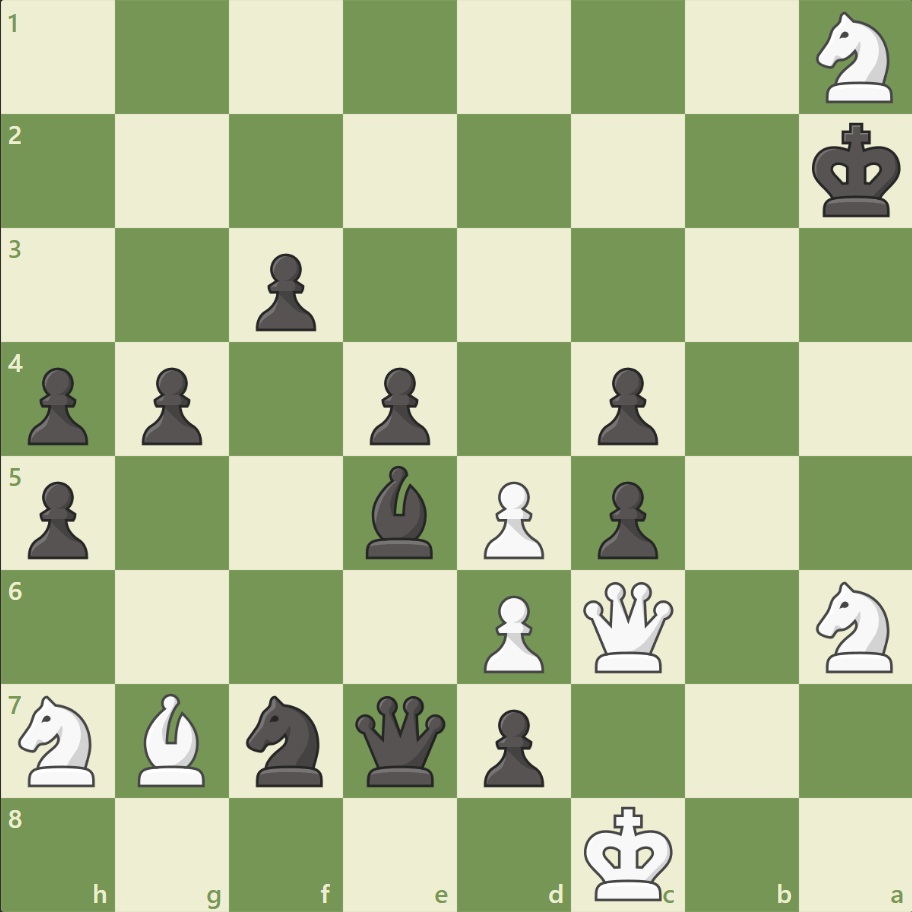B: (131, 687, 215, 790)
K: (579, 798, 679, 906)
N: (11, 688, 108, 791), (806, 7, 903, 110), (806, 575, 903, 677)
P: (474, 586, 549, 677), (474, 473, 549, 564)
Q: (578, 576, 677, 676)
b: (358, 460, 442, 563)
k: (806, 117, 906, 225)
n: (238, 688, 335, 791)
p: (474, 700, 549, 791), (20, 473, 95, 564), (133, 359, 208, 450), (20, 359, 95, 450), (247, 246, 322, 337), (588, 473, 662, 564), (588, 359, 662, 450), (361, 359, 435, 450)
q: (351, 690, 450, 789)
